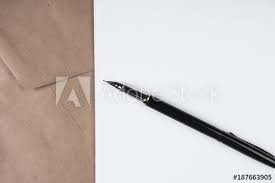pen: (96, 76, 275, 169)
